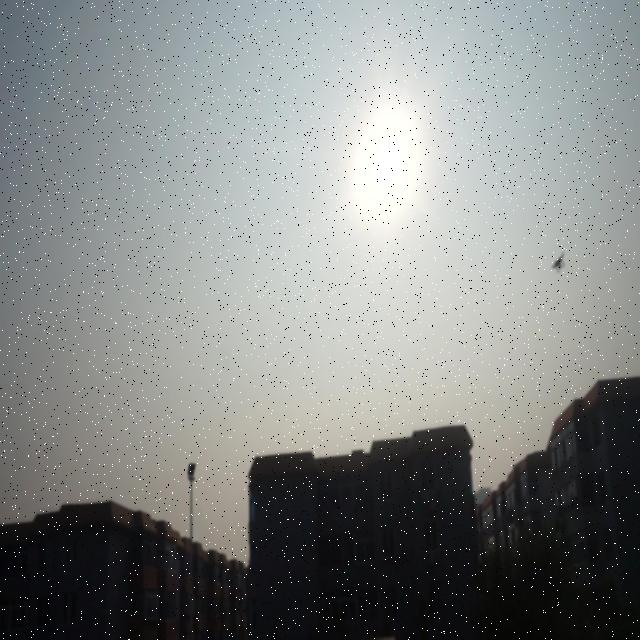UAV: (550, 251, 566, 273)
